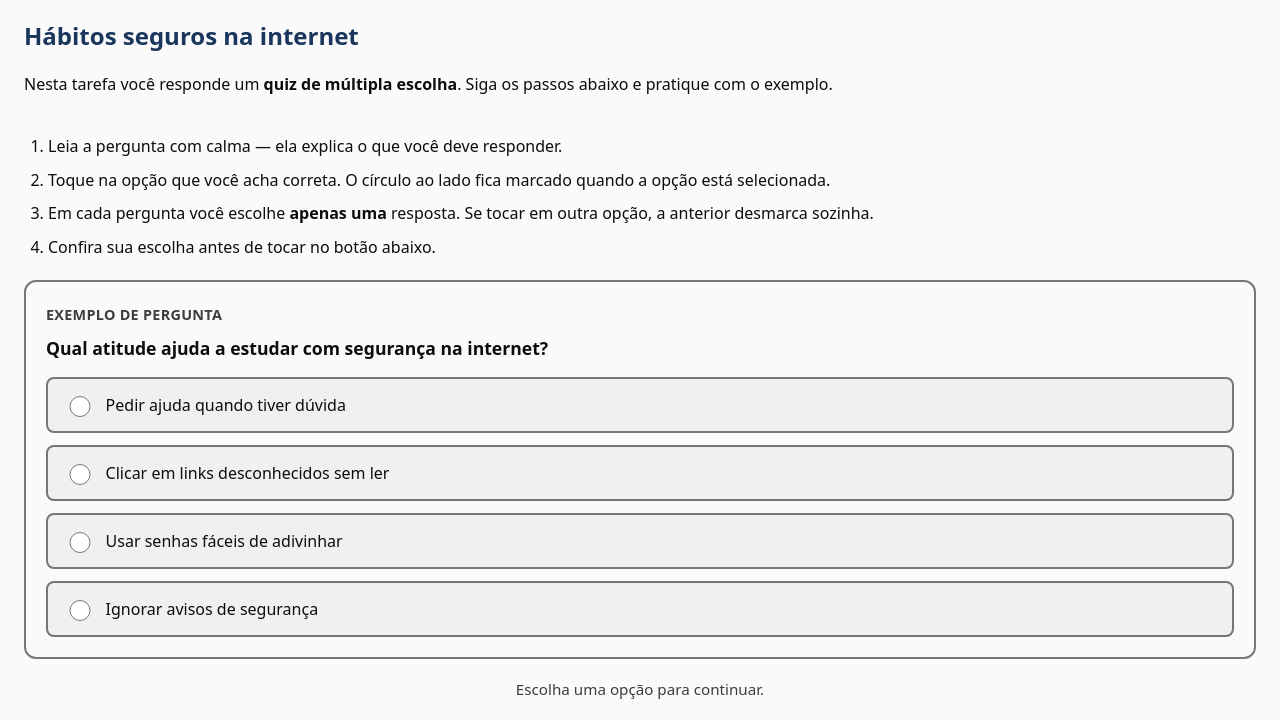
StepTutorialPage › abre modal ao concluir prática de múltipla escolha
Click the radio button labelled "Pedir ajuda quando tiver dúvida": (80, 407) [69, 396, 91, 417]
(page scrolled)
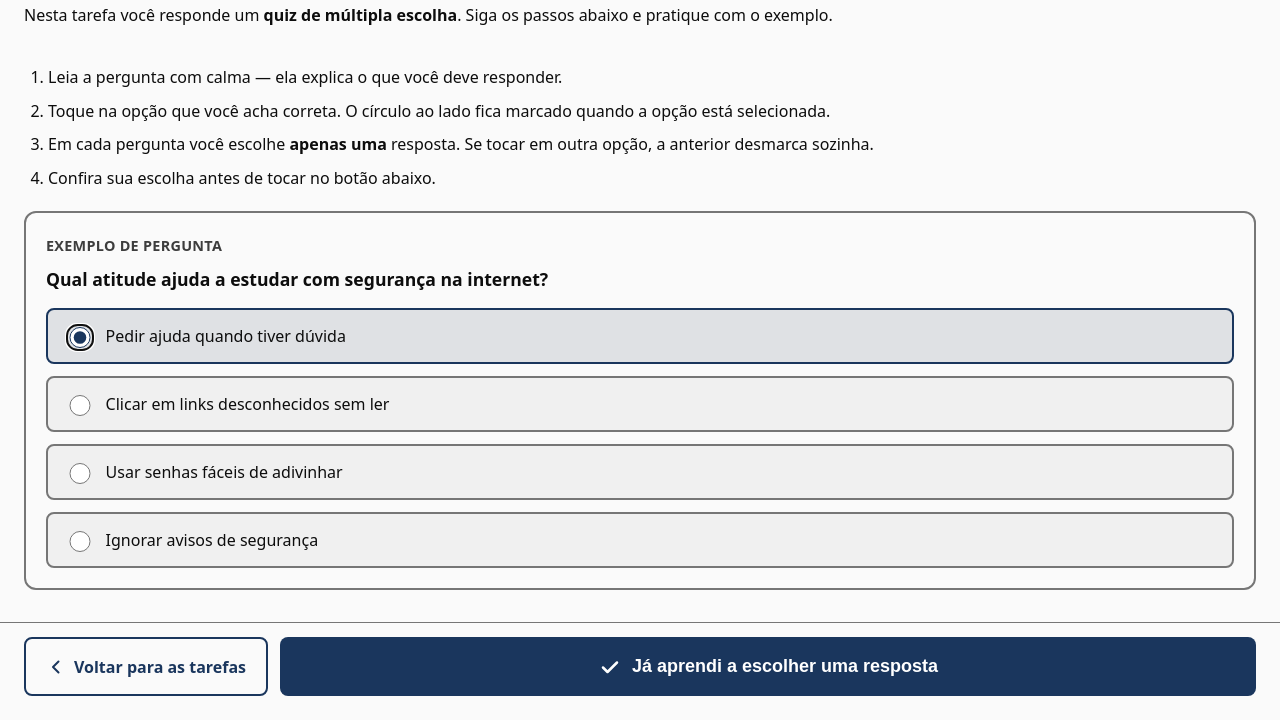
Click the button with aria-label "confirmar que já aprendeu a escolher uma resposta": (768, 667) [280, 637, 1256, 696]
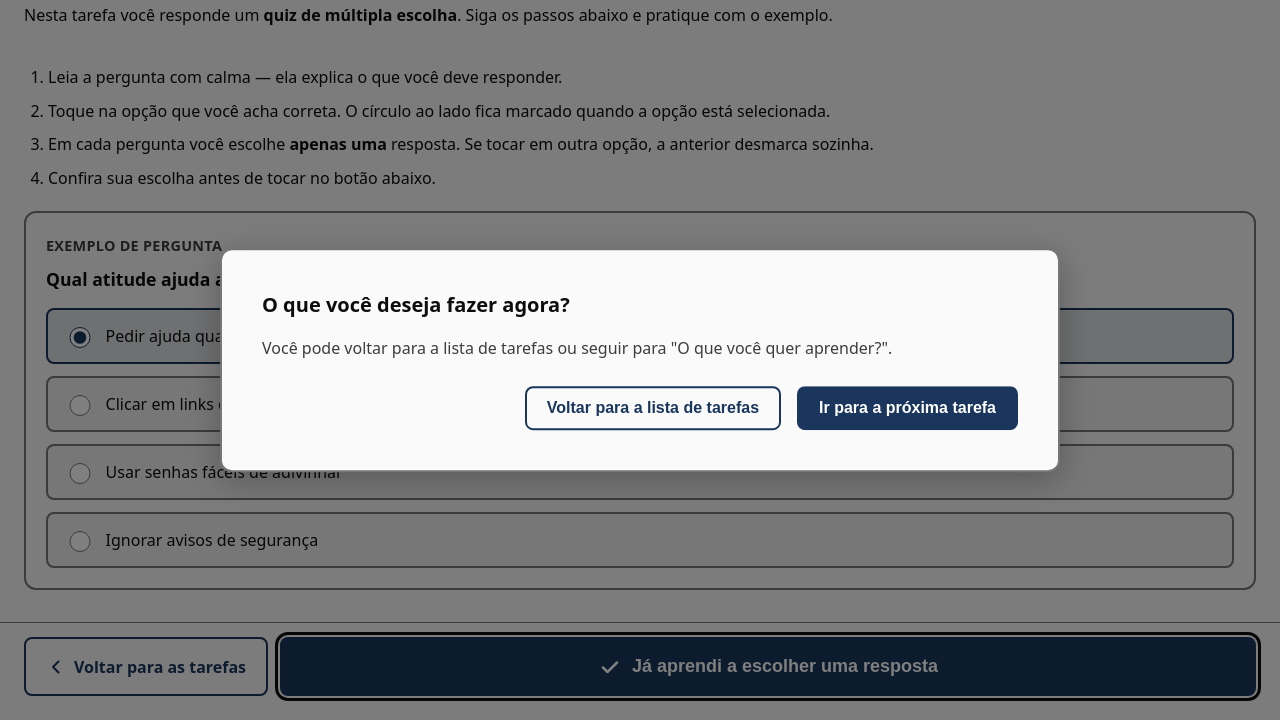
Check: the dialog is shown, box [220, 248, 1060, 472]
Check: the heading "O que você deseja fazer agora?" is shown, box [262, 291, 570, 318]
Check: the button "Ir para a próxima tarefa" is shown, box [797, 386, 1018, 430]
